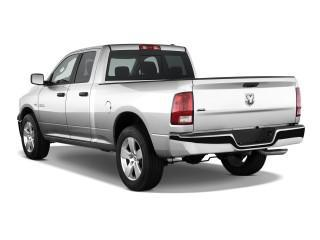ram: (242, 91, 258, 107)
